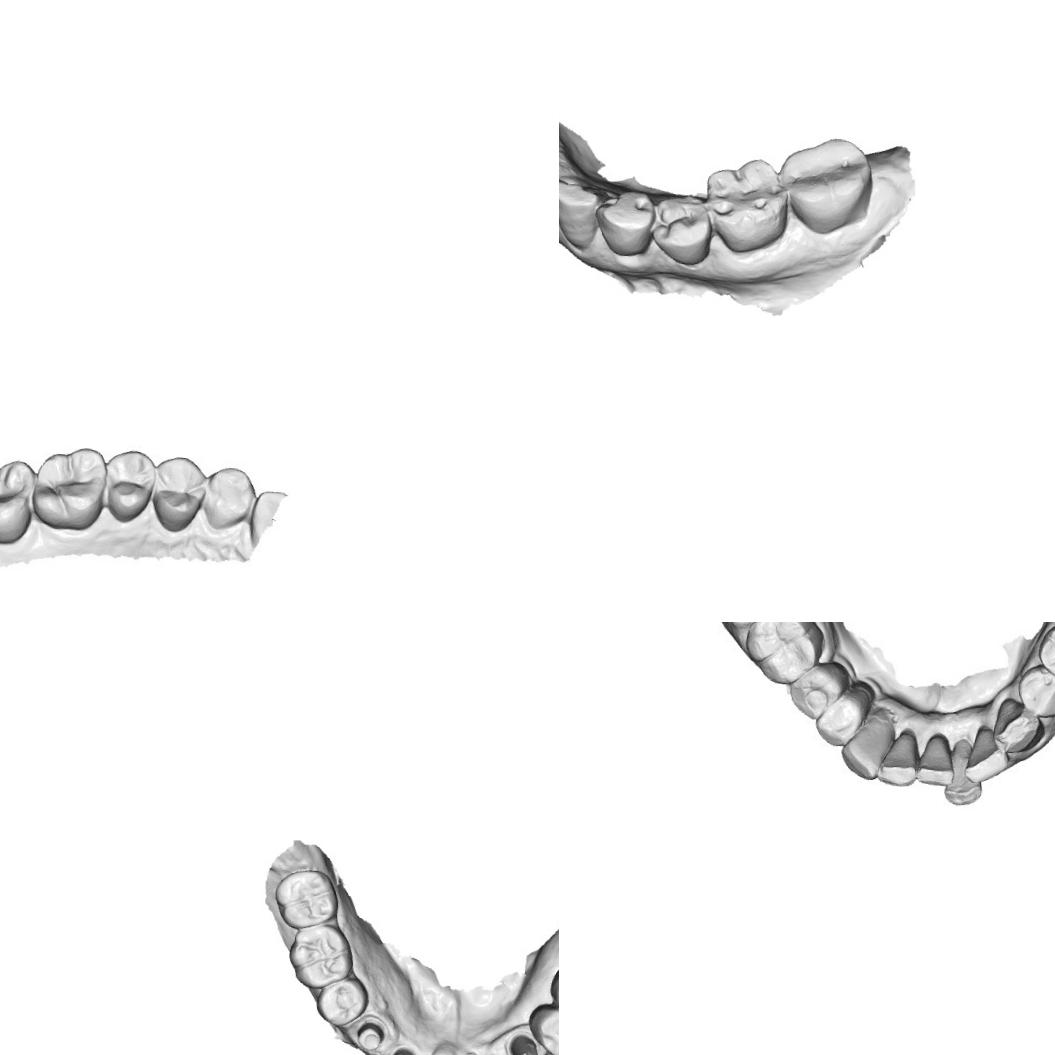abutment: (352, 1018, 386, 1055), (505, 1031, 546, 1055), (385, 1043, 421, 1055)
canine: (834, 709, 892, 789), (202, 462, 260, 531), (559, 178, 601, 250), (994, 695, 1038, 757), (524, 1000, 559, 1055)
incisor: (878, 728, 924, 791), (963, 724, 1011, 783), (913, 728, 957, 784), (946, 740, 983, 804)
molar: (774, 131, 876, 239), (697, 153, 794, 256), (27, 440, 109, 534), (283, 918, 357, 995), (270, 862, 341, 932), (743, 622, 819, 679), (0, 454, 34, 546)
premolar: (146, 450, 209, 534), (592, 184, 658, 258), (98, 445, 157, 526), (652, 195, 718, 266), (814, 687, 870, 747), (314, 976, 372, 1030), (790, 664, 844, 719), (1021, 667, 1055, 718), (1038, 624, 1055, 680), (545, 965, 559, 1019)
